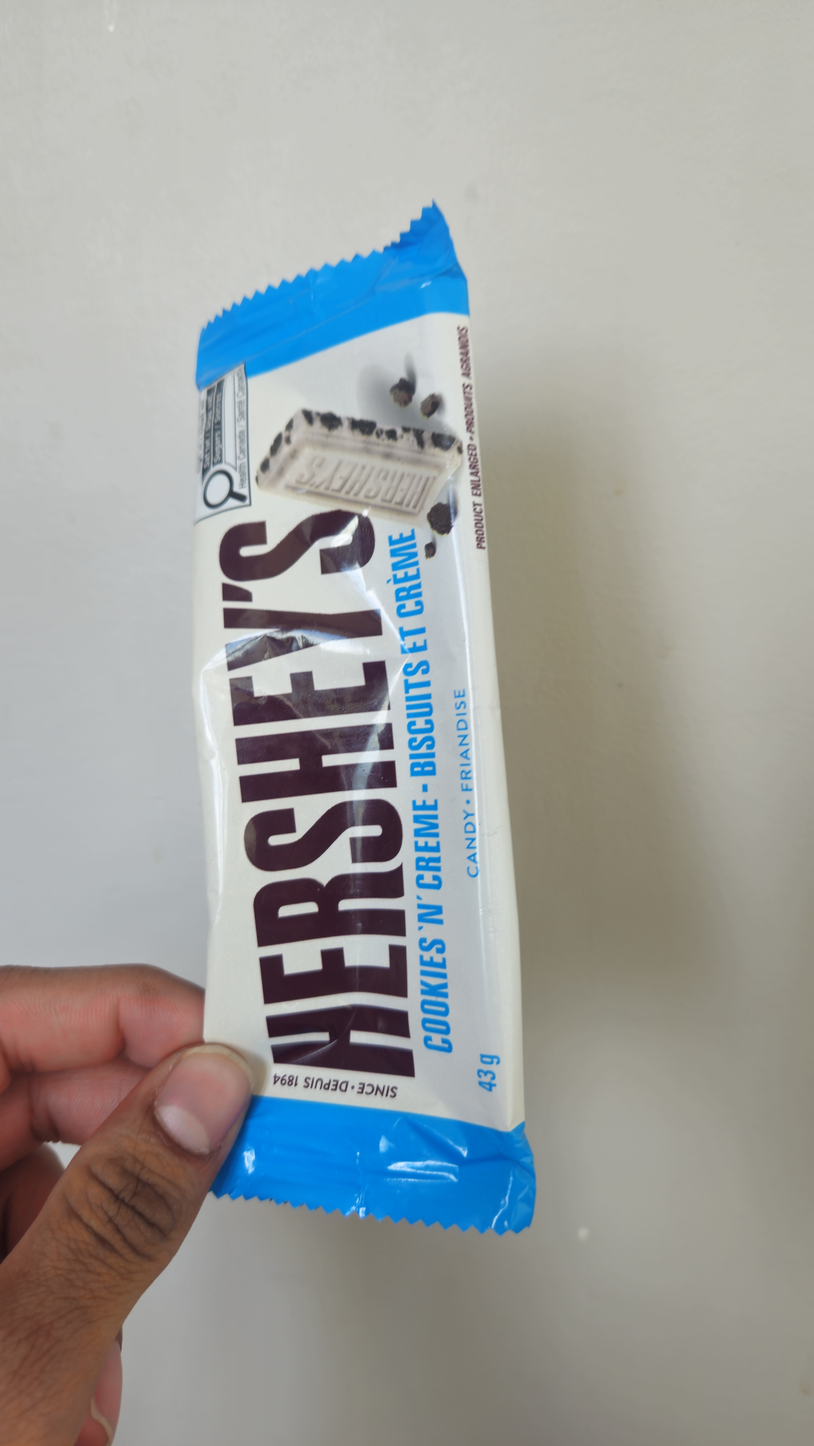plastic: (194, 205, 535, 1235)
